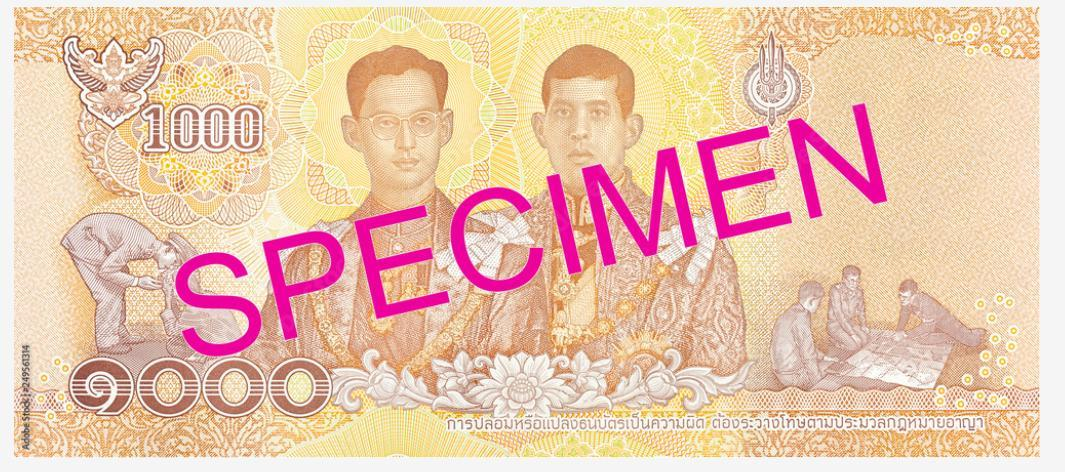1000BahtTai: (9, 7, 1036, 457)
